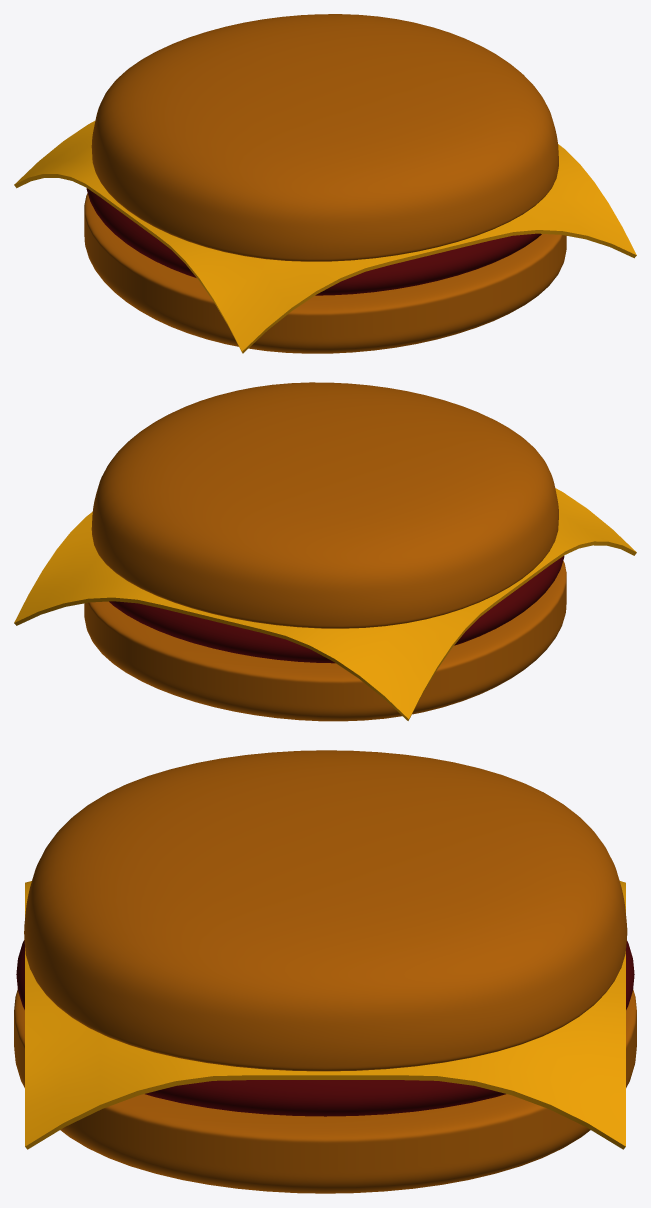
Rendered from hamburger.glb.
3 views of the same model, one above another, from view 1: azimuth 30°, elevation 25°; view 2: azimuth 150°, elevation 25°; view 3: azimuth 270°, elevation 25° (orthographic). The views are drawn at different scales.
Parts seen in each view (by area): view 1: Cube.002, Cube, Plane, Cube.001; view 2: Cube.002, Cube, Plane, Cube.001; view 3: Cube.002, Cube, Plane, Cube.001.
Part boxes in pixels (x1,y1,x2,y2): Cube.002: (91,14,558,261); Cube: (84,193,566,353); Plane: (14,121,636,353); Cube.001: (86,188,541,295); Cube.002: (91,382,558,628); Cube: (84,561,566,721); Plane: (14,488,636,720); Cube.001: (109,556,564,663); Cube.002: (24,750,627,1071); Cube: (14,989,636,1193); Plane: (25,881,625,1149); Cube.001: (16,940,634,1116).
Size of the model in its own units: 9.2 by 4.27 by 9.2.
